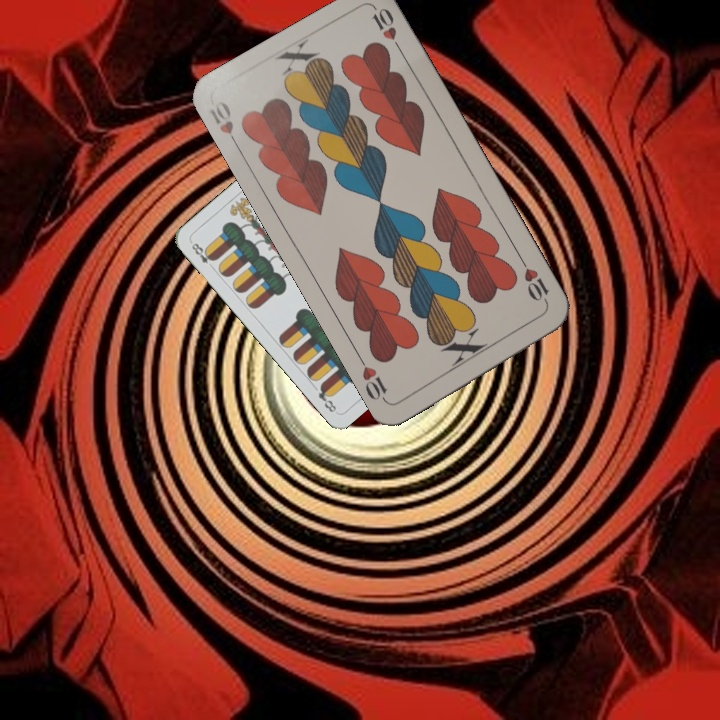E8: (187, 238, 218, 272)
H10: (206, 97, 243, 152), (516, 255, 552, 310)
